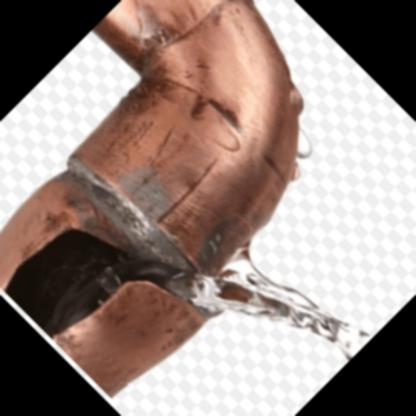burst: (3, 221, 214, 346)
